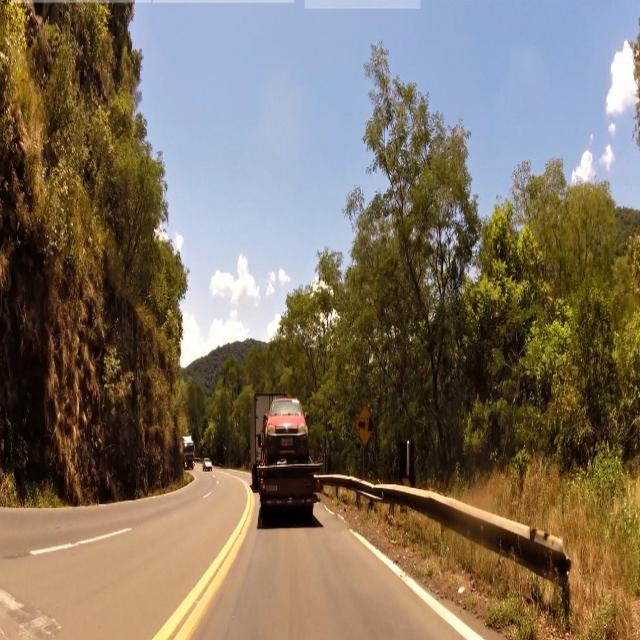A-27: (355, 404, 379, 449)
